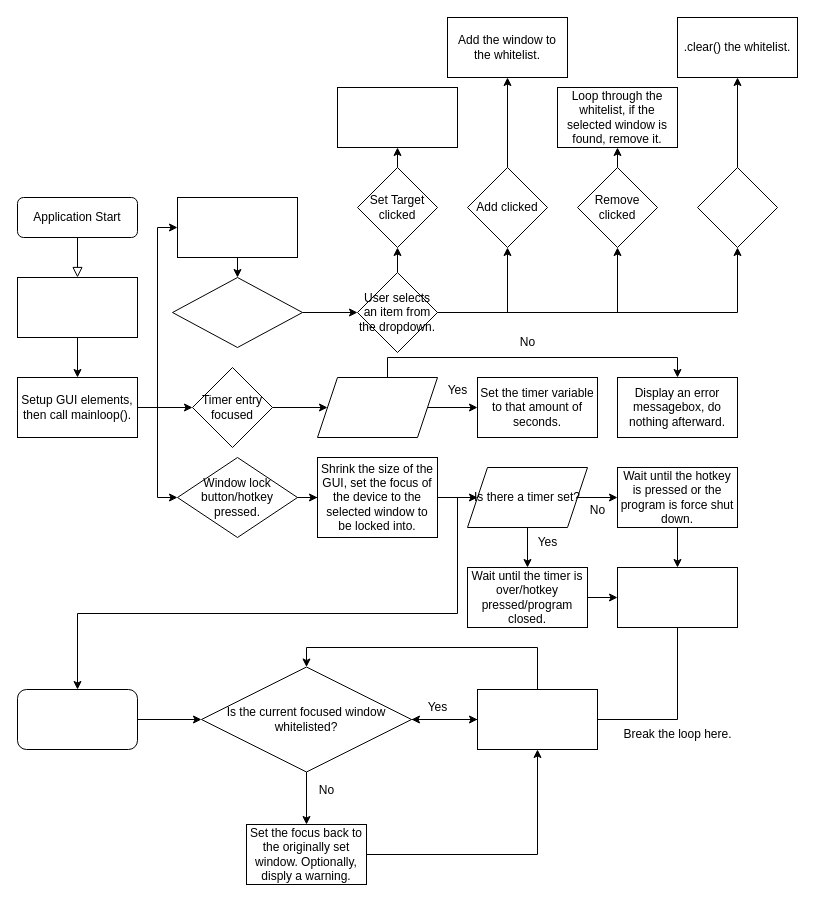
Image size: 815x902. Some labels were removed from this diagram. The centre of each missing label's shape, as x and y in pixels:
Clear clicked: the point at 737,207
Clear focus of the locked window, reset the GUI back to normal.: the point at 677,597
Get a list of currently opened windows with wingui32.: the point at 237,227
Initialize libraries, classes & functions.: the point at 77,307
Is the entry a valid number?: the point at 377,407
Set the window to be locked variable to the selected item.: the point at 397,117
Sleep() for a short duration of time.: the point at 537,719
Window lock dropdown menu clicked: the point at 237,312
Window lock starts: the point at 77,719
